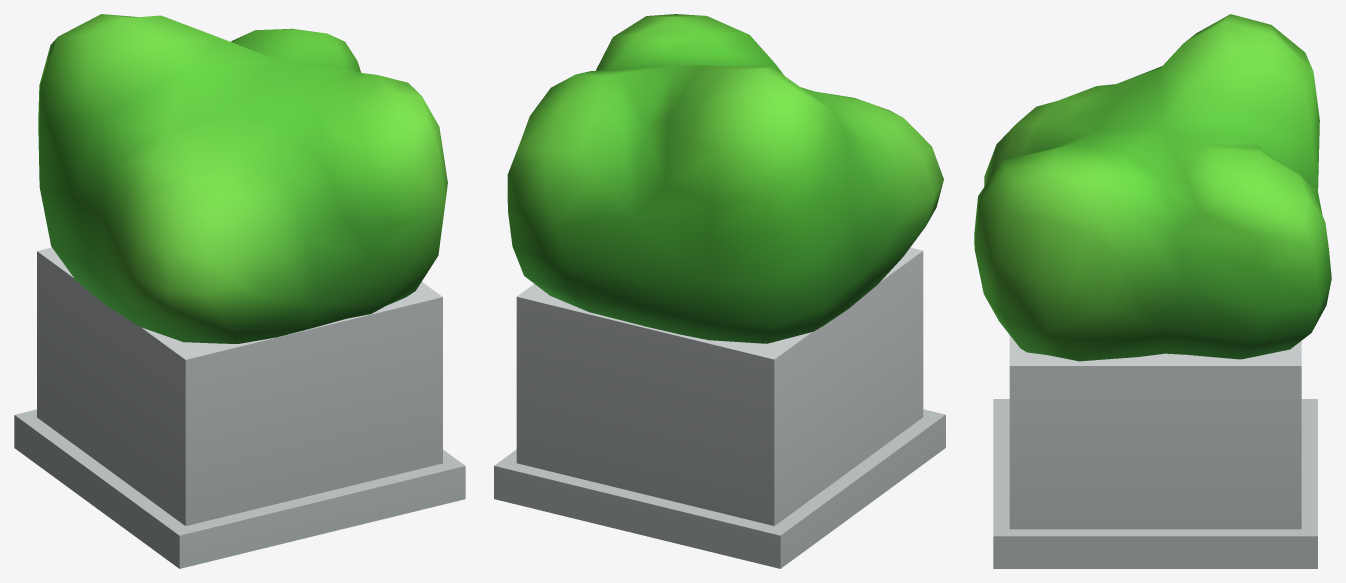
The model's file is Marble_Plant.fbx.
3 renders of one model, left to right at view 1: azimuth 30°, elevation 25°; view 2: azimuth 150°, elevation 25°; view 3: azimuth 270°, elevation 25°, orthographic.
Parts seen in each view (by area): view 1: Cube.011, Cube; view 2: Cube.011, Cube; view 3: Cube.011, Cube.
Boxes of the visible parts, x1=… form: Cube.011: x1=38, y1=14, x2=447, y2=343; Cube: x1=14, y1=247, x2=465, y2=568; Cube.011: x1=507, y1=14, x2=943, y2=343; Cube: x1=494, y1=247, x2=945, y2=568; Cube.011: x1=974, y1=14, x2=1331, y2=361; Cube: x1=993, y1=335, x2=1317, y2=568.
Bounding box in the file's own units: 99.22 × 135 × 99.16.
